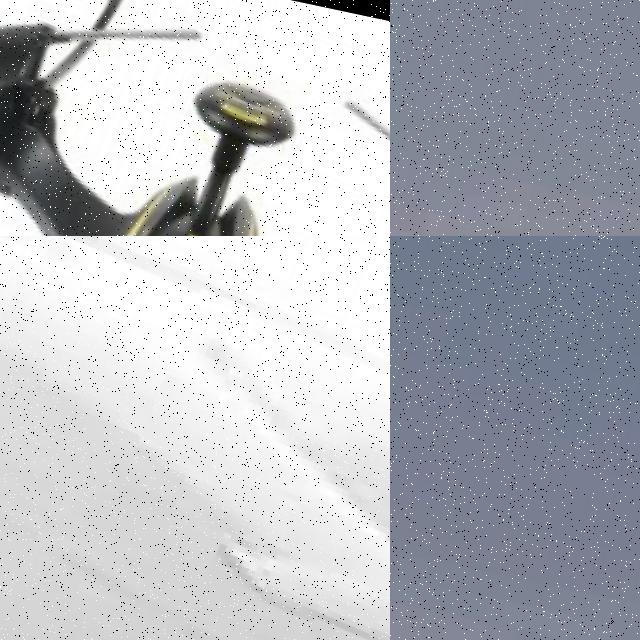drone: (0, 236, 390, 640), (0, 0, 390, 236)
